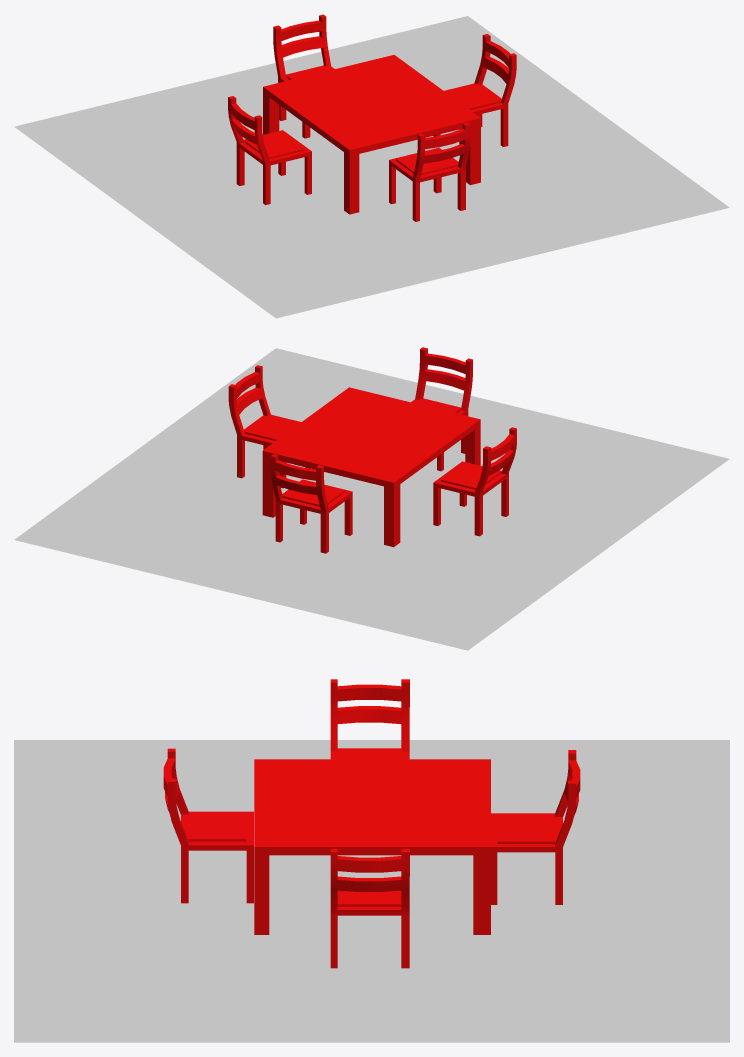
Rendered from juegoMesaRojo.gltf.
3 renders of one model, top to bottom at view 1: azimuth 30°, elevation 25°; view 2: azimuth 150°, elevation 25°; view 3: azimuth 270°, elevation 25°, orthographic. The views are drawn at different scales.
Visible parts, largest first — view 1: Piso, Mesa, Silla 4, Silla 2, Silla 1, Silla 3; view 2: Piso, Mesa, Silla 3, Silla 2, Silla 1, Silla 4; view 3: Piso, Mesa, Silla 1, Silla 4, Silla 3, Silla 2.
Boxes of the visible parts, left/top/right/bottom form: Piso: left=14, top=16, right=729, bottom=318; Mesa: left=263, top=55, right=480, bottom=214; Silla 4: left=389, top=122, right=470, bottom=221; Silla 2: left=228, top=96, right=311, bottom=204; Silla 1: left=433, top=34, right=516, bottom=146; Silla 3: left=273, top=14, right=334, bottom=138; Piso: left=14, top=348, right=729, bottom=650; Mesa: left=262, top=387, right=480, bottom=547; Silla 3: left=271, top=454, right=352, bottom=553; Silla 2: left=433, top=427, right=516, bottom=536; Silla 1: left=228, top=365, right=309, bottom=488; Silla 4: left=411, top=347, right=472, bottom=471; Piso: left=14, top=740, right=729, bottom=1042; Mesa: left=254, top=759, right=490, bottom=934; Silla 1: left=330, top=849, right=409, bottom=968; Silla 4: left=163, top=748, right=253, bottom=903; Silla 3: left=491, top=750, right=580, bottom=904; Silla 2: left=330, top=679, right=409, bottom=759.
Size of the model in its own units: 6.91 by 1.33 by 6.91.
